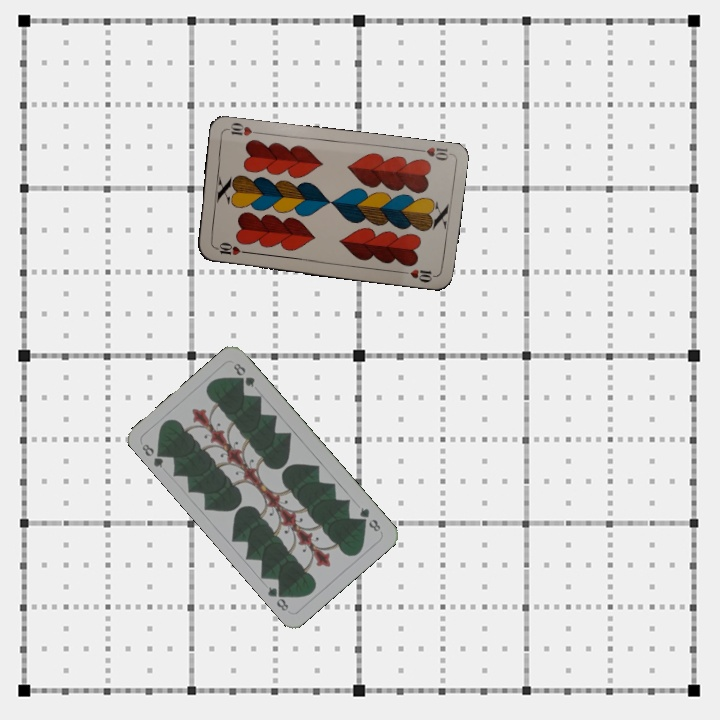G8: (138, 440, 168, 471), (355, 503, 383, 534)
H10: (412, 143, 452, 163), (210, 239, 251, 258)
